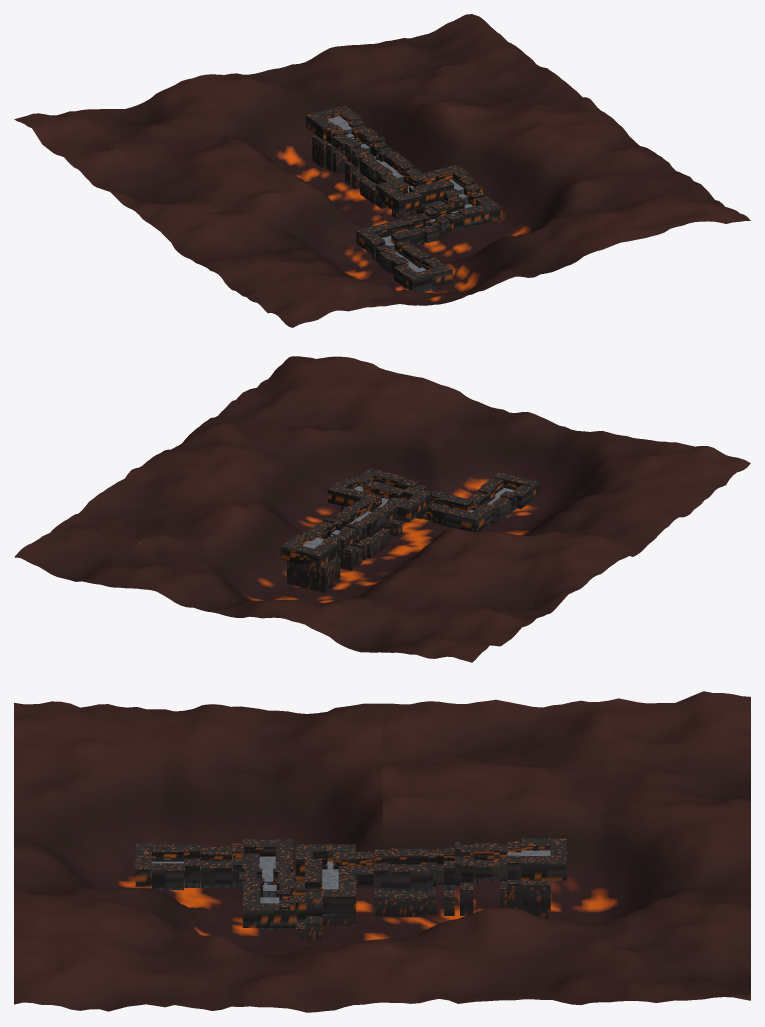
Rendered from smelter_tower_terrain.glb.
3 views of the same model, one above another, from view 1: azimuth 30°, elevation 25°; view 2: azimuth 150°, elevation 25°; view 3: azimuth 270°, elevation 25° (orthographic). The views are drawn at different scales.
Parts seen in each view (by area): view 1: backdrop_5, backdrop_2, backdrop_4, backdrop_3, backdrop_0, backdrop_1, terrain_F, terrain_C, terrain_H, terrain_I, terrain_B, terrain_E (+4 smaller); view 2: backdrop_0, backdrop_1, backdrop_5, backdrop_3, backdrop_4, backdrop_2, terrain_J, terrain_F, terrain_C, terrain_H, terrain_I, terrain_B (+3 smaller); view 3: backdrop_0, backdrop_5, backdrop_4, backdrop_1, backdrop_3, backdrop_2, terrain_H, terrain_F, terrain_E, terrain_I, terrain_J, terrain_B (+3 smaller).
Boxes of the visible parts, x1=… form: backdrop_5: x1=14, y1=14, x2=518, y2=155; backdrop_2: x1=153, y1=117, x2=657, y2=269; backdrop_4: x1=61, y1=48, x2=564, y2=197; backdrop_3: x1=108, y1=82, x2=610, y2=226; backdrop_0: x1=246, y1=187, x2=750, y2=327; backdrop_1: x1=200, y1=152, x2=703, y2=296; terrain_F: x1=376, y1=165, x2=469, y2=214; terrain_C: x1=356, y1=207, x2=450, y2=252; terrain_H: x1=348, y1=137, x2=409, y2=204; terrain_I: x1=326, y1=119, x2=378, y2=184; terrain_B: x1=369, y1=231, x2=430, y2=274; terrain_E: x1=436, y1=176, x2=500, y2=227; backdrop_0: x1=247, y1=356, x2=750, y2=506; backdrop_1: x1=200, y1=391, x2=704, y2=535; backdrop_5: x1=14, y1=523, x2=518, y2=662; backdrop_3: x1=107, y1=456, x2=611, y2=604; backdrop_4: x1=61, y1=489, x2=564, y2=631; backdrop_2: x1=154, y1=424, x2=657, y2=565; terrain_J: x1=280, y1=534, x2=336, y2=592; terrain_F: x1=328, y1=480, x2=431, y2=522; terrain_C: x1=414, y1=484, x2=488, y2=532; terrain_H: x1=323, y1=505, x2=384, y2=565; terrain_I: x1=302, y1=521, x2=356, y2=581; terrain_B: x1=455, y1=485, x2=517, y2=529; backdrop_0: x1=14, y1=701, x2=136, y2=1011; backdrop_5: x1=628, y1=691, x2=750, y2=1002; backdrop_4: x1=505, y1=698, x2=628, y2=1005; backdrop_1: x1=136, y1=704, x2=259, y2=1010; backdrop_3: x1=382, y1=699, x2=505, y2=1003; backdrop_2: x1=259, y1=703, x2=382, y2=1012; terrain_H: x1=390, y1=841, x2=459, y2=917; terrain_F: x1=295, y1=844, x2=356, y2=925; terrain_E: x1=243, y1=880, x2=322, y2=939; terrain_I: x1=460, y1=841, x2=520, y2=915; terrain_J: x1=521, y1=838, x2=566, y2=918; terrain_B: x1=184, y1=839, x2=259, y2=887.
Size of the model in its own units: 518 by 60.85 by 546.
